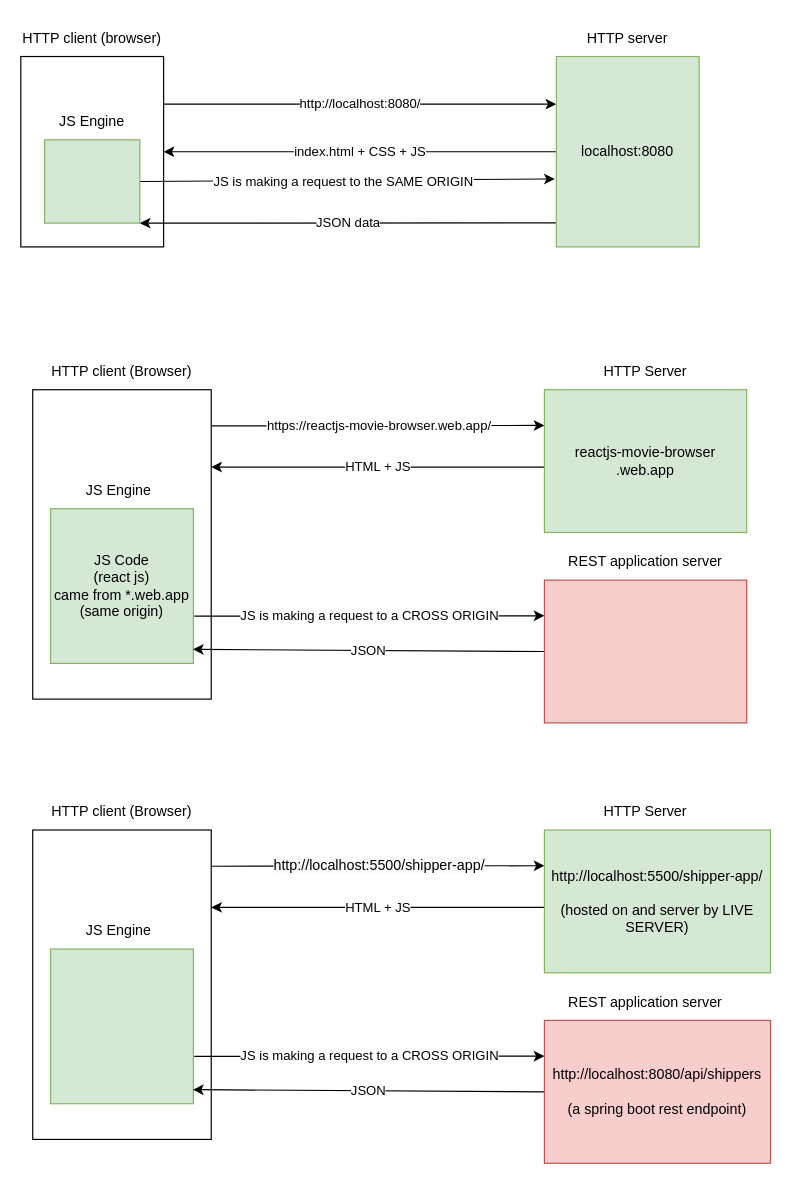
The diagram is 791 pixels wide and 1184 high, and some of its shapes have lost their labels. Here are the shapes that lost their labels. From the top down, the centre of each, then its label:
(91,181): JS Code
(645,651): omdbapi.com
(121,1026): JS Code (react js) came from localhost:5500 (same origin)
